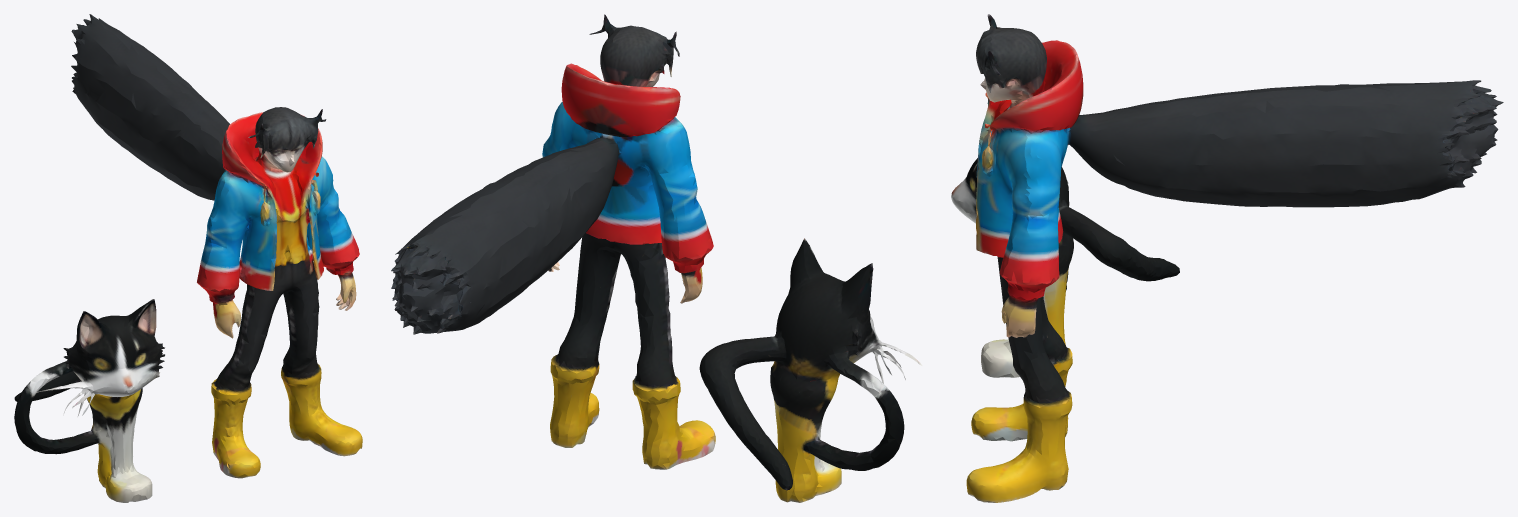
File: lealith.glb
The picture shows the model from 3 angles, left to right: view 1: azimuth 30°, elevation 25°; view 2: azimuth 150°, elevation 25°; view 3: azimuth 270°, elevation 25°; orthographic projection. The views are drawn at different scales.
Parts seen in each view (by area): view 1: lealith_v4; view 2: lealith_v4; view 3: lealith_v4.
Part boxes in pixels (x1=…): lealith_v4: x1=14, y1=14, x2=362, y2=502; lealith_v4: x1=391, y1=14, x2=922, y2=502; lealith_v4: x1=951, y1=14, x2=1503, y2=502.
Bounding box in the file's own units: 1.14 × 1.13 × 1.32.
Materials: 1 (1 with a texture image).
